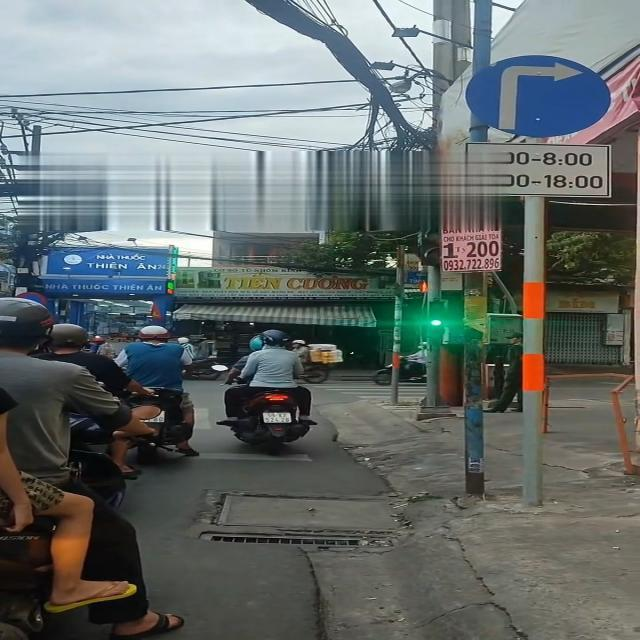301d-cac-xe-chi-duoc-re-phai-2: (465, 50, 616, 140)
